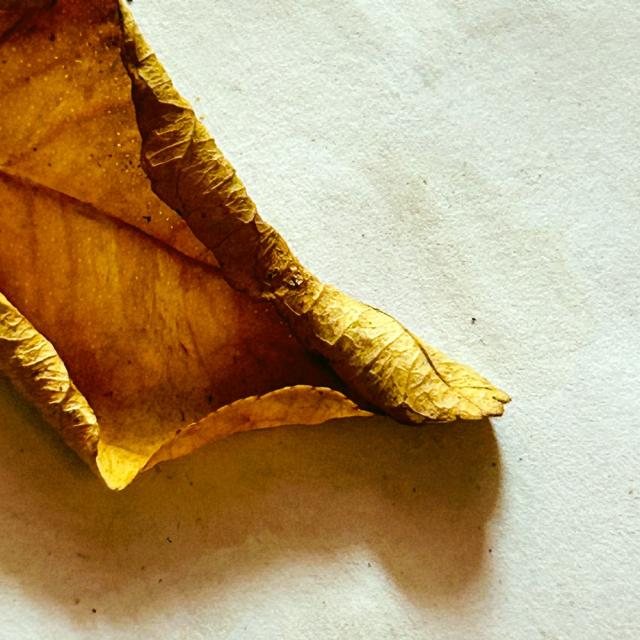DryLeaf_Lemon: (0, 0, 511, 488)
